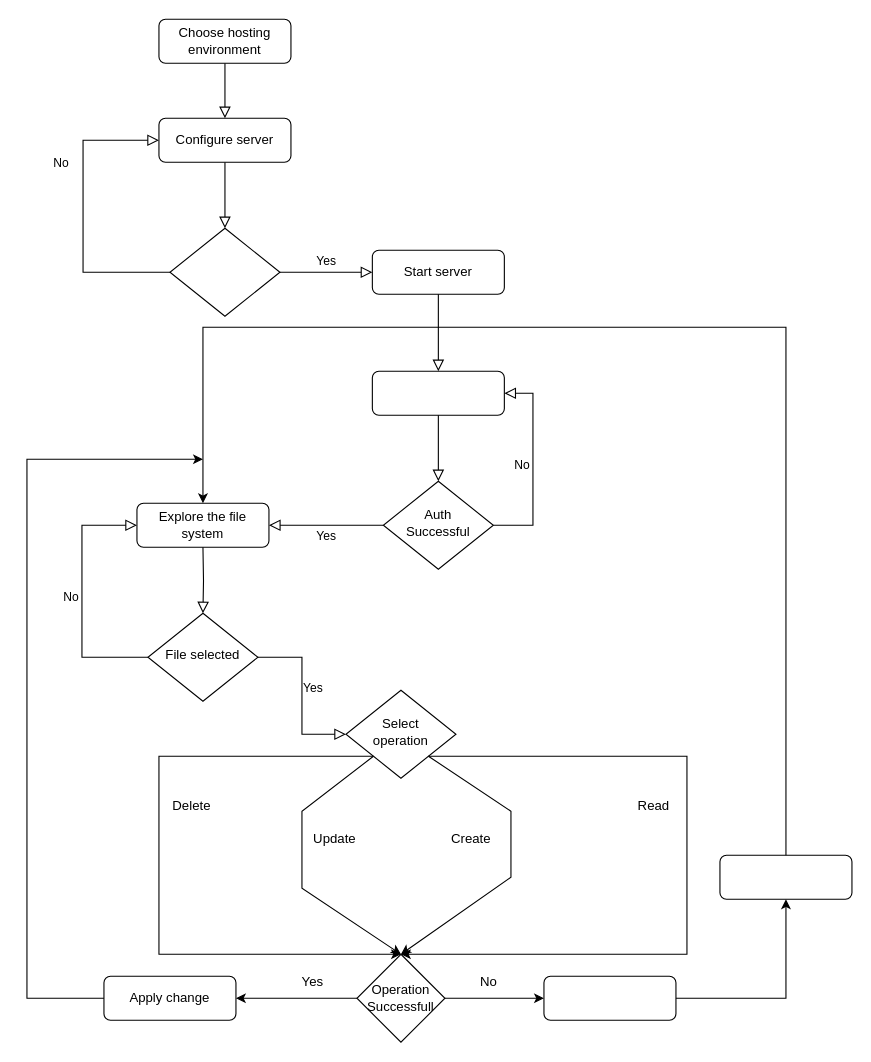
Image size: 871x1062. Some labels were removed from this diagram. Here are the shapes that lost their labels. From the top down, the centre of each, then its label:
the point at 224,271: Server configured
the point at 437,392: Log in
the point at 785,876: Throw error to client-side
the point at 609,997: Log error
